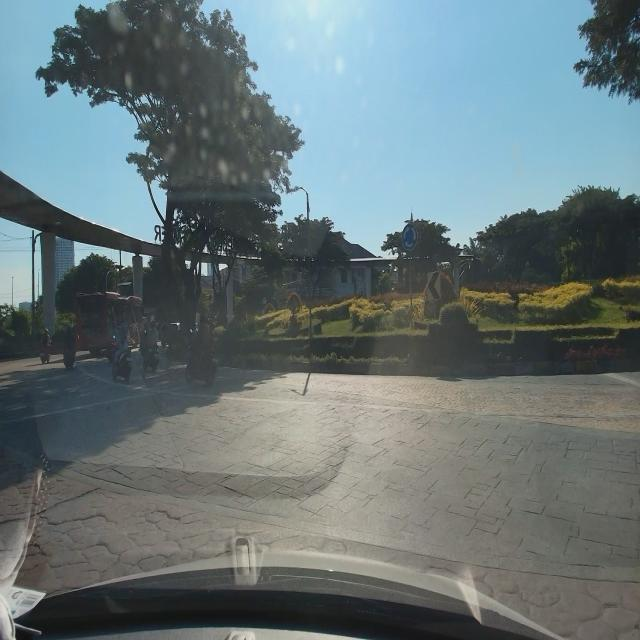bus: (72, 285, 146, 359)
